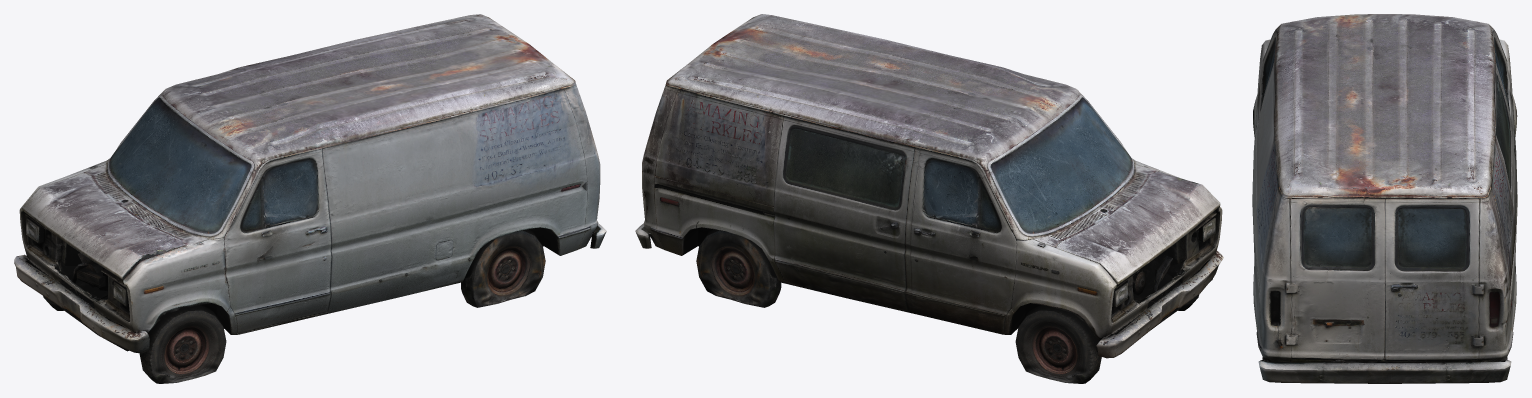
The model's file is graffiti_van_template.glb.
3 renders of one model, left to right at view 1: azimuth 30°, elevation 25°; view 2: azimuth 150°, elevation 25°; view 3: azimuth 270°, elevation 25°, orthographic. The views are drawn at different scales.
Parts seen in each view (by area): view 1: default001_Material #105_0; view 2: default001_Material #105_0; view 3: default001_Material #105_0.
Part boxes in pixels (x1,y1,x2,y2): default001_Material #105_0: (14, 14, 606, 383); default001_Material #105_0: (635, 14, 1223, 383); default001_Material #105_0: (1252, 14, 1517, 383).
Size of the model in its own units: 151 by 61.14 by 65.14.
1 material, 1 textured.
